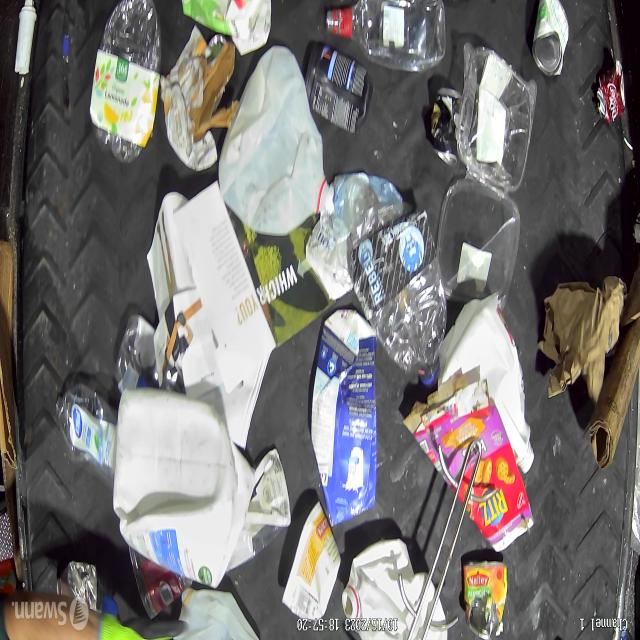can: (128, 544, 192, 620), (463, 559, 508, 640), (531, 0, 569, 78), (431, 88, 461, 168), (56, 560, 98, 612), (596, 61, 624, 124)
milk_jug: (113, 388, 256, 590), (218, 46, 328, 236), (440, 292, 536, 474), (342, 538, 448, 640)
non_white_jug: (311, 308, 378, 528), (181, 0, 272, 56)
plastic_bottle: (351, 208, 447, 390), (90, 0, 162, 163), (326, 0, 446, 73), (55, 383, 116, 491), (114, 312, 160, 390)
